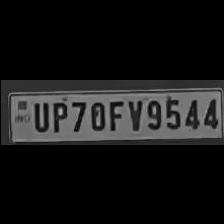0: (86, 97, 106, 131)
4: (200, 94, 220, 128), (182, 95, 200, 129)
5: (162, 95, 180, 129)
7: (67, 97, 85, 131)
9: (142, 96, 162, 130)
F: (106, 97, 124, 131)
P: (47, 97, 67, 130)
U: (29, 97, 49, 130)
V: (124, 96, 142, 130)
